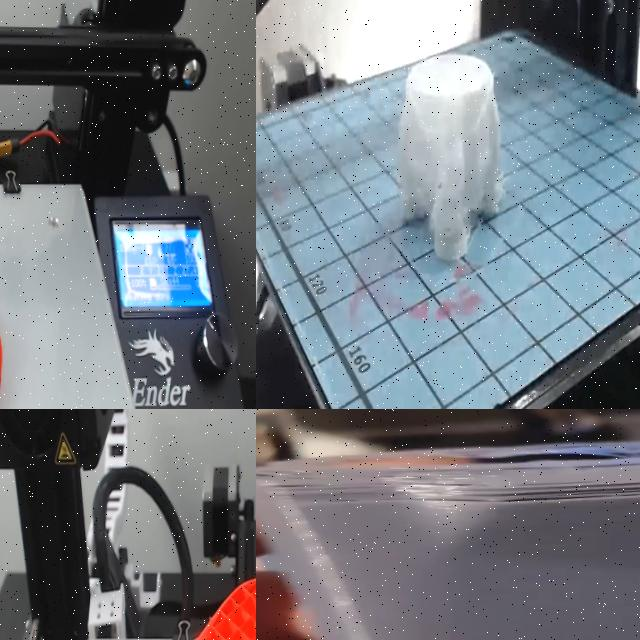spaghetti: (256, 426, 640, 510)
